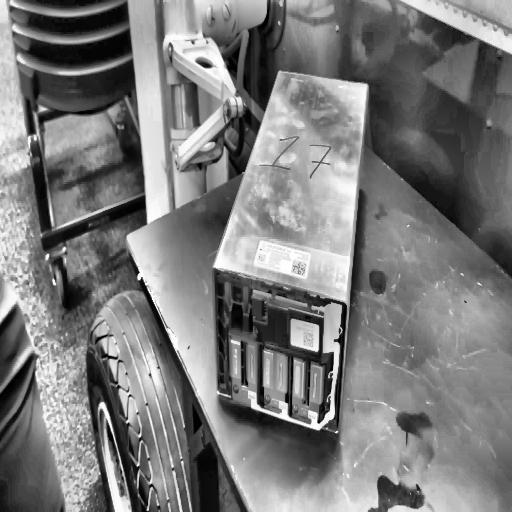battery_module: (212, 68, 369, 432)
